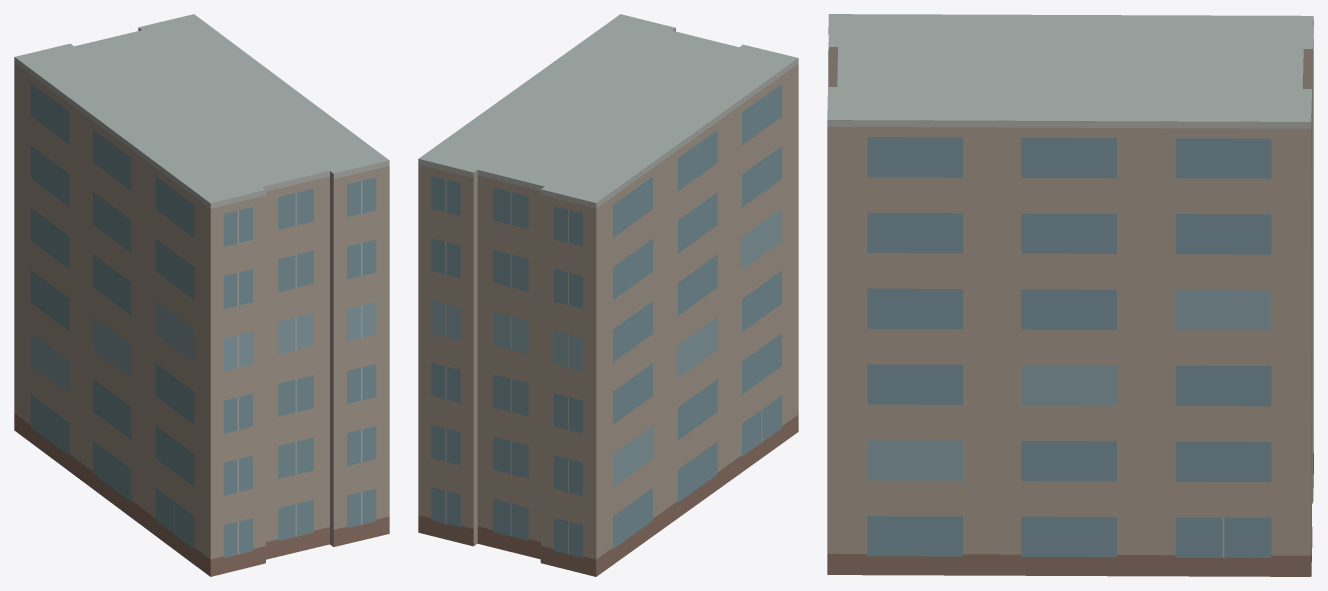
File: survey-upis-32743870.glb
The picture shows the model from 3 angles, left to right: view 1: azimuth 30°, elevation 25°; view 2: azimuth 150°, elevation 25°; view 3: azimuth 270°, elevation 25°; orthographic projection. The views are drawn at different scales.
Visible parts, largest first — view 1: survey-upis-32743870.tmp; view 2: survey-upis-32743870.tmp; view 3: survey-upis-32743870.tmp.
Boxes of the visible parts, x1,y1,x2,y2 form: survey-upis-32743870.tmp: (14,14,389,576); survey-upis-32743870.tmp: (418,14,798,576); survey-upis-32743870.tmp: (827,14,1313,576).
Size of the model in its own units: 8.36 by 16.4 by 15.91.
